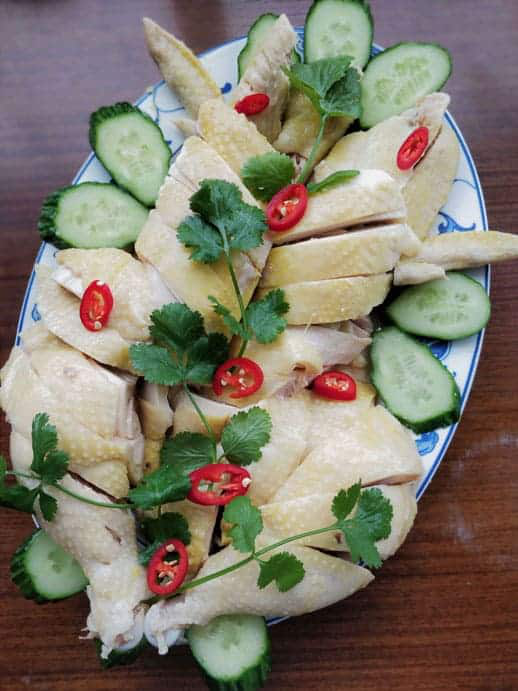Steamed Chicken Rice: (27, 90, 466, 625)
